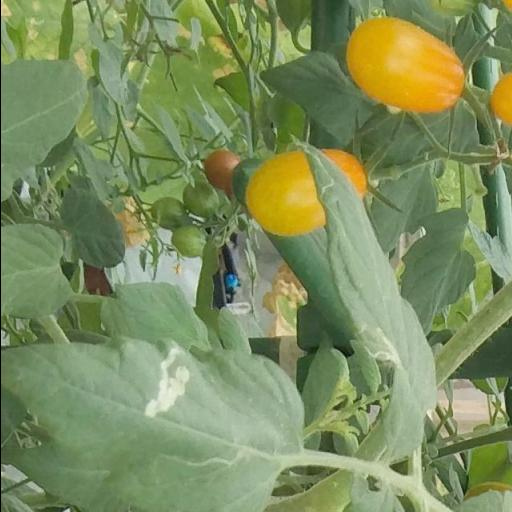disease_tomato: (0, 338, 304, 512)
